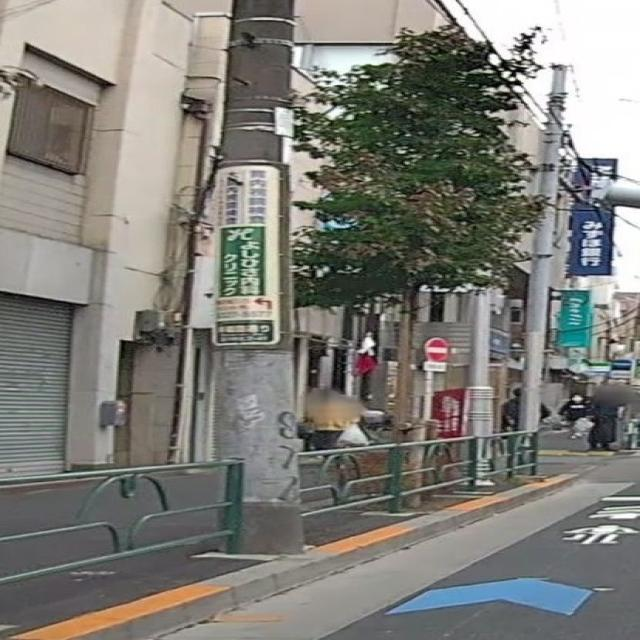maple: (292, 24, 554, 510)
